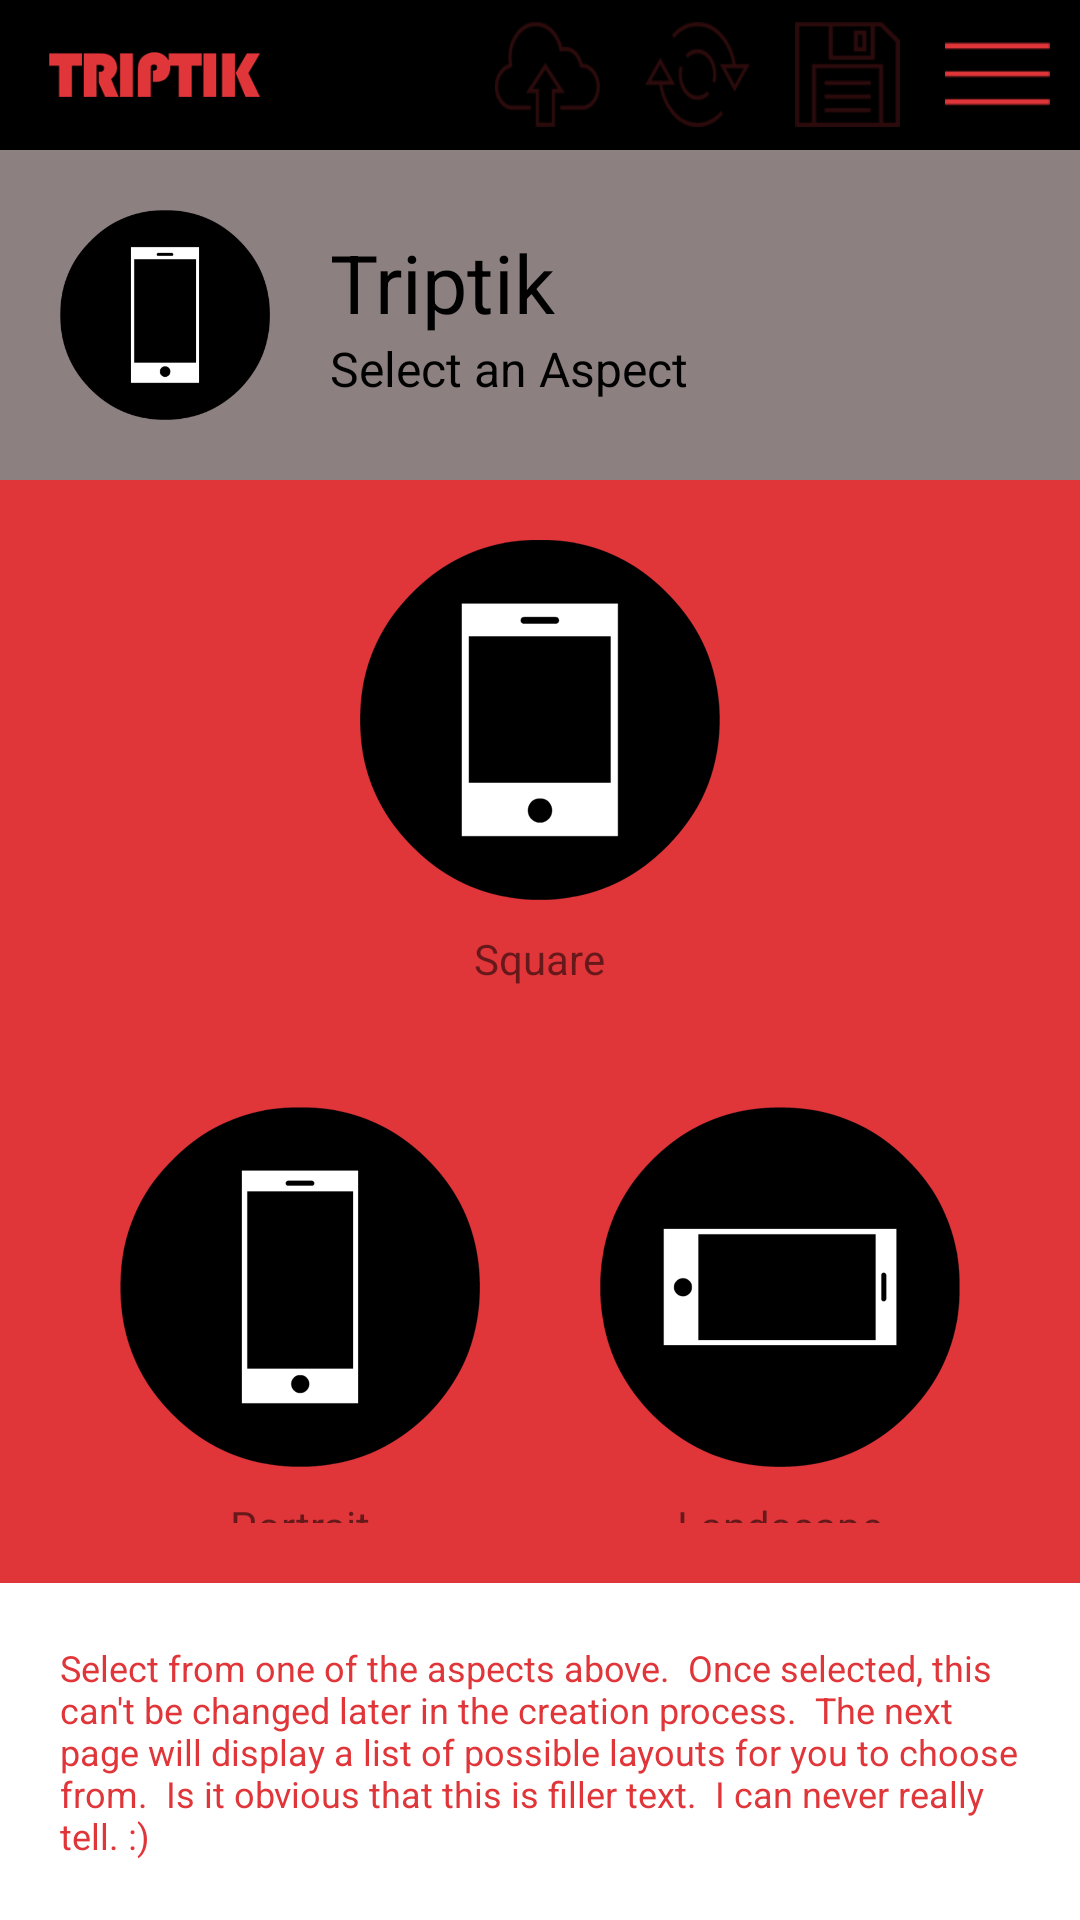

Where to tap for icons on this 1080x1920 app screen, as [x,y]:
menu: [997,74]
publish: [547,74]
save: [847,74]
update: [697,74]
